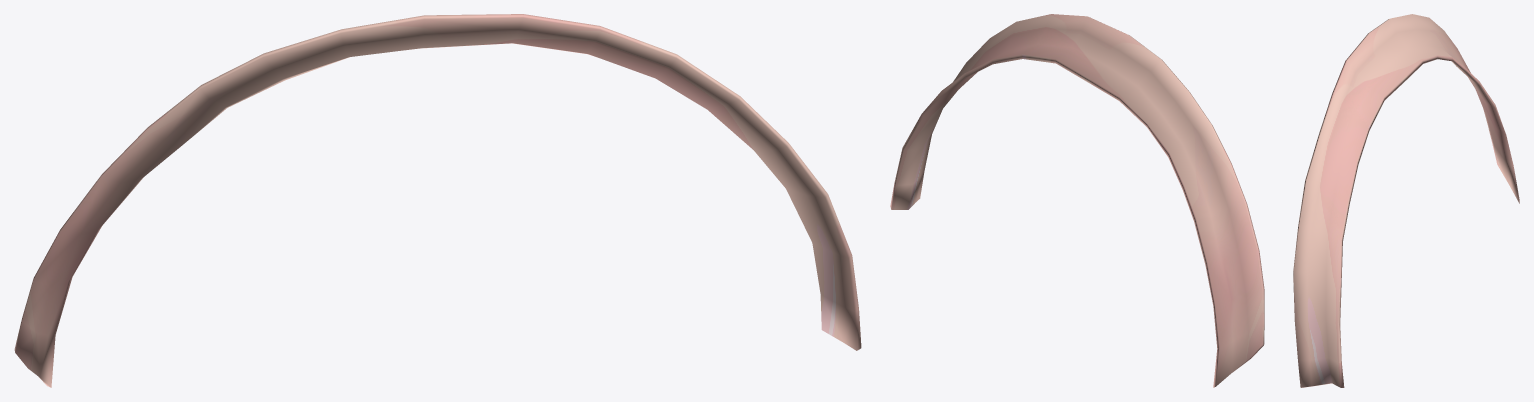
File: JOJO_eyelash_R.FBX
3 views of the same model, side by side, from view 1: azimuth 30°, elevation 25°; view 2: azimuth 150°, elevation 25°; view 3: azimuth 270°, elevation 25° (orthographic). The views are drawn at different scales.
Parts seen in each view (by area): view 1: JOJO_eyelash_R; view 2: JOJO_eyelash_R; view 3: JOJO_eyelash_R.
Part boxes in pixels (left/top/right/bottom): JOJO_eyelash_R: left=14, top=14, right=861, bottom=387; JOJO_eyelash_R: left=890, top=14, right=1264, bottom=387; JOJO_eyelash_R: left=1293, top=14, right=1519, bottom=387.
Bounding box in the file's own units: 8.34 × 4.53 × 3.75.
